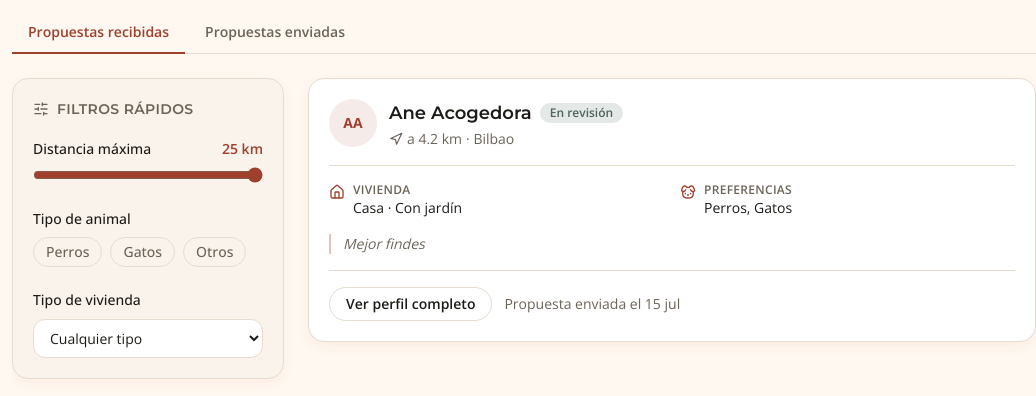
Test: GestionAcogidas › la pestaña de enviadas muestra card con acogedor, animal, duración, mensaje y acciones
Click the tab "Propuestas enviadas" at (275, 33), box [189, 12, 361, 54]
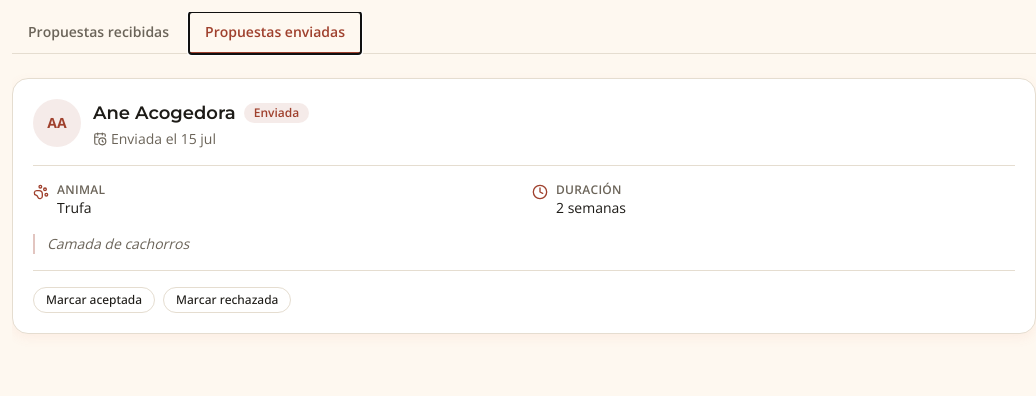
Check: the text "Trufa" is shown, box [57, 198, 92, 217]
Check: the text "2 semanas" is shown, box [556, 198, 626, 218]
Check: the text "Camada de cachorros" is shown, box [33, 234, 1015, 254]
